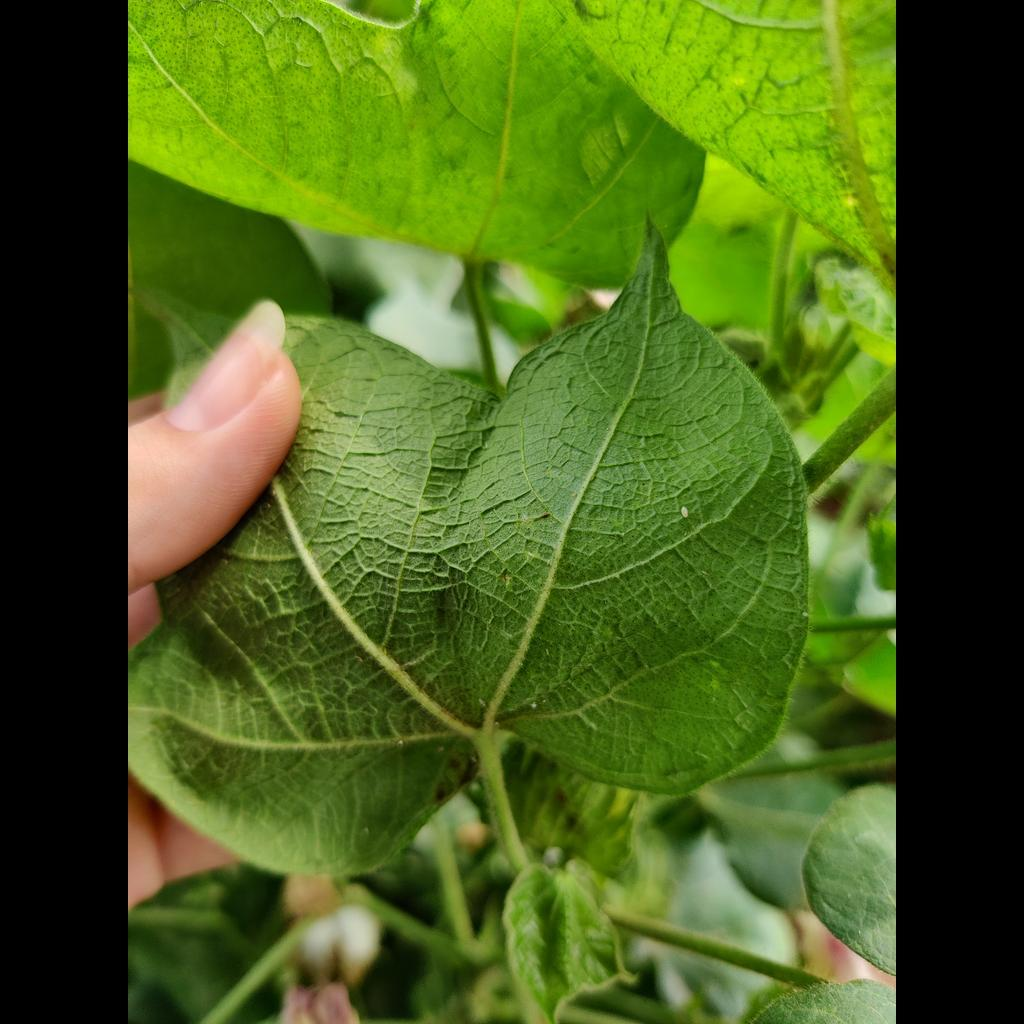nymph: (468, 781, 482, 793), (680, 506, 688, 517), (478, 699, 486, 707), (531, 702, 537, 710), (801, 611, 808, 617), (397, 739, 403, 745)
